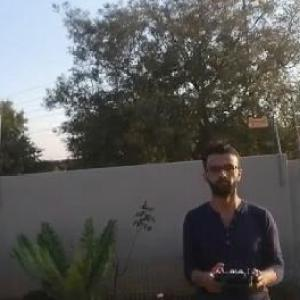follow: (178, 139, 291, 299)
